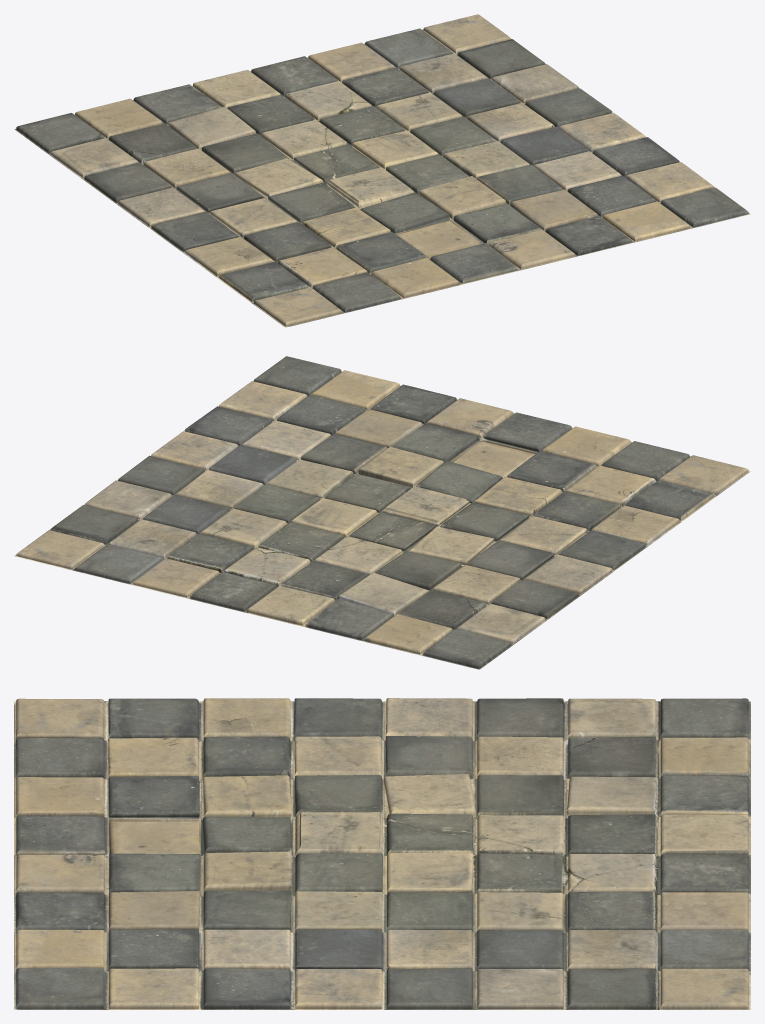
The model's file is DungeonFloor_01.glb.
3 views of the same model, one above another, from view 1: azimuth 30°, elevation 25°; view 2: azimuth 150°, elevation 25°; view 3: azimuth 270°, elevation 25° (orthographic). The views are drawn at different scales.
Parts seen in each view (by area): view 1: FloorsCheckerboard; view 2: FloorsCheckerboard; view 3: FloorsCheckerboard.
Part boxes in pixels (left/top/right/bottom): FloorsCheckerboard: left=14, top=14, right=750, bottom=327; FloorsCheckerboard: left=14, top=356, right=750, bottom=669; FloorsCheckerboard: left=14, top=698, right=750, bottom=1009.
Bounding box in the file's own units: 1 × 0.0205 × 1.01.
Materials: 1 (1 with a texture image).
